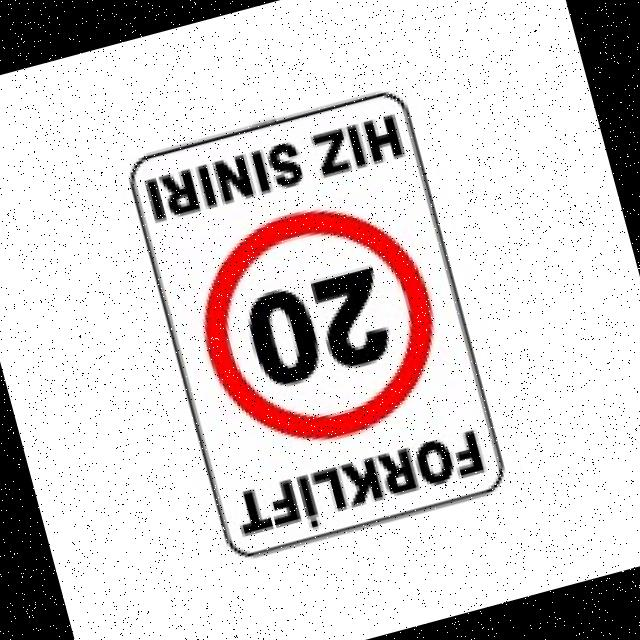speed_limit_20: (173, 180, 462, 467)
